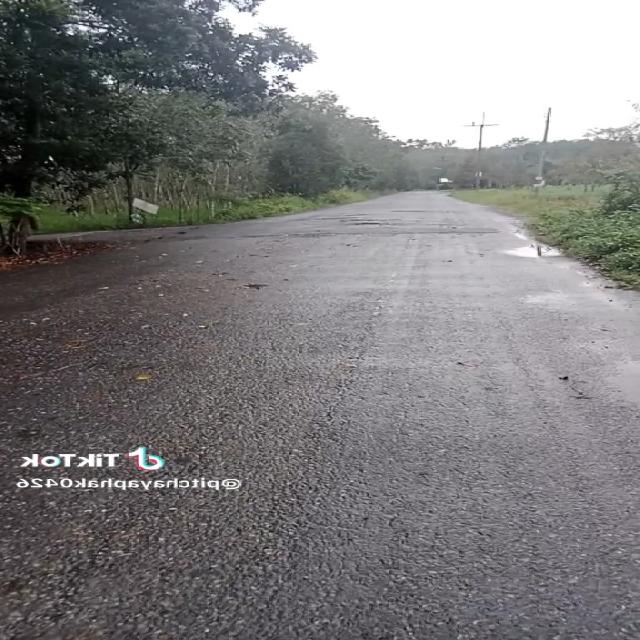Poth-hole: (308, 206, 415, 242)
